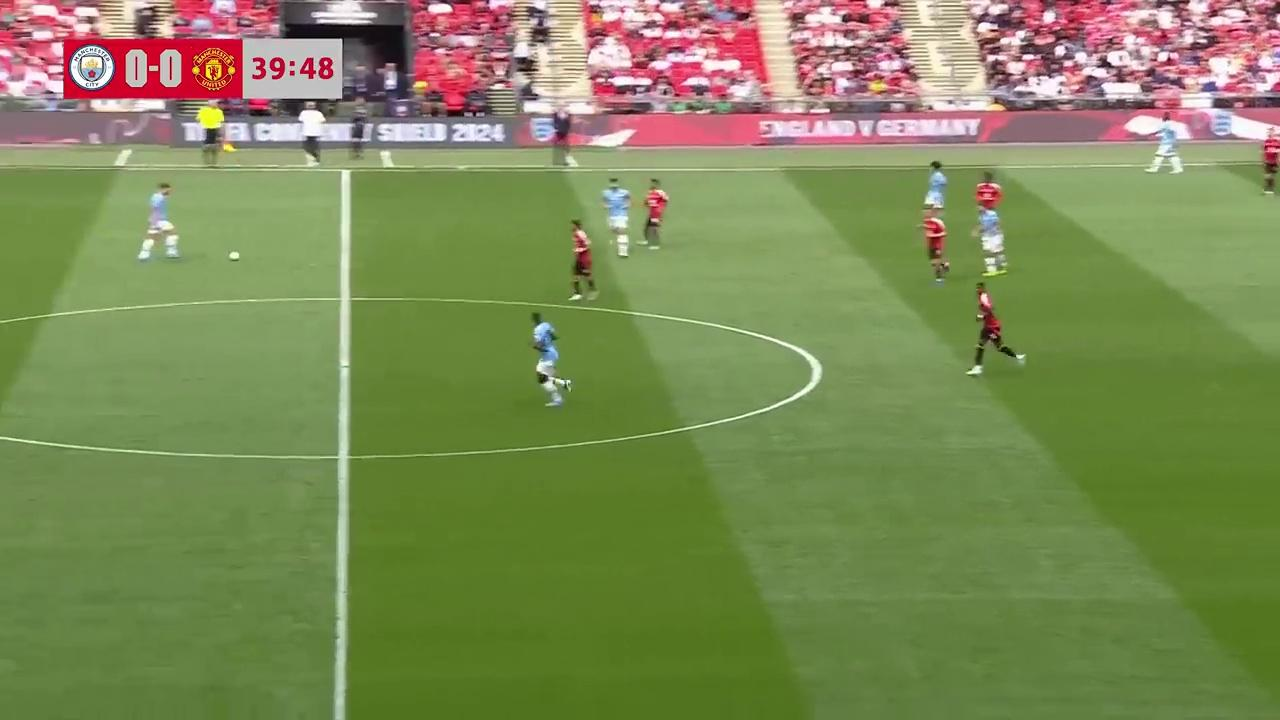ball: (226, 247, 242, 261)
player: (966, 282, 1026, 375), (530, 311, 571, 408), (136, 182, 181, 262), (601, 178, 632, 257), (569, 220, 598, 301), (972, 211, 1008, 276), (919, 209, 949, 285), (1146, 118, 1183, 174), (640, 179, 668, 250), (973, 173, 1003, 238), (1258, 131, 1280, 197), (923, 161, 949, 214)
